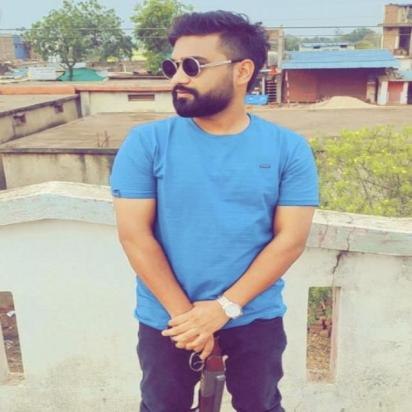Gun: (163, 318, 234, 409)
